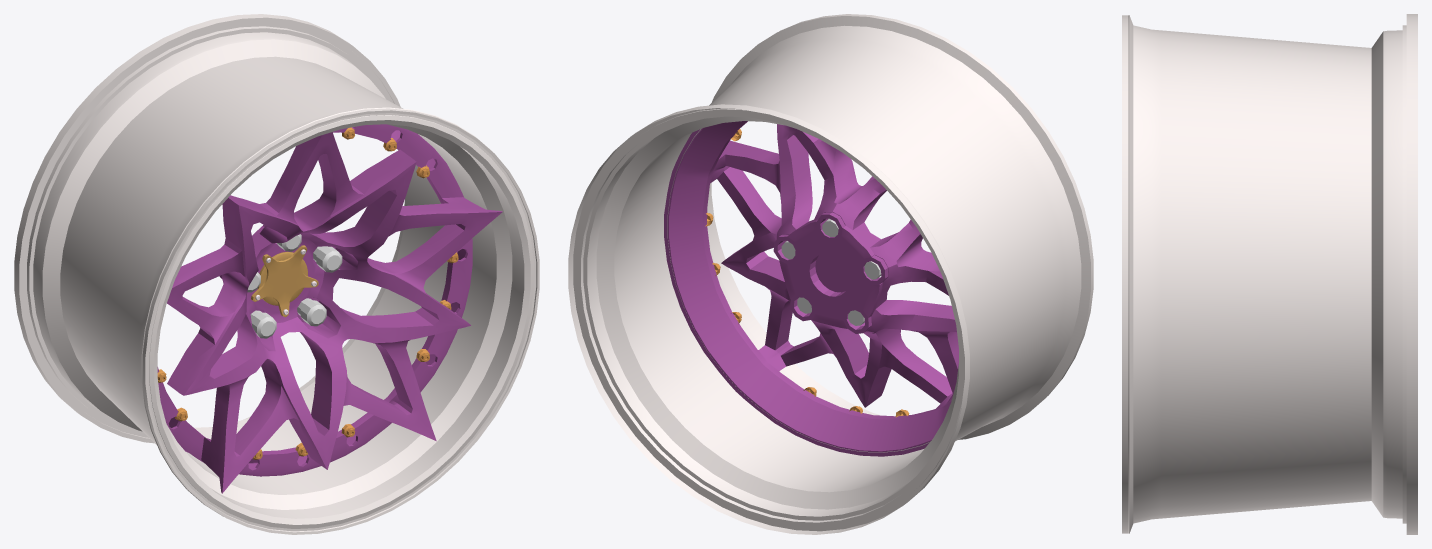
File: 0subd_FBX_Seven_K_Nika_S_Model.fbx
3 renders of one model, left to right at view 1: azimuth 30°, elevation 25°; view 2: azimuth 150°, elevation 25°; view 3: azimuth 270°, elevation 25°, orthographic. The views are drawn at different scales.
Visible parts, largest first — view 1: Rim, Centre_Cap, Lug_Nuts; view 2: Rim, Lug_Nuts; view 3: Rim.
Boxes of the visible parts, bbox=[...] form: Rim: bbox=[14, 14, 539, 534]; Centre_Cap: bbox=[251, 245, 318, 317]; Lug_Nuts: bbox=[247, 234, 342, 338]; Rim: bbox=[568, 14, 1093, 534]; Lug_Nuts: bbox=[781, 218, 881, 325]; Rim: bbox=[1122, 14, 1417, 534].
Bounding box in the file's own units: 102 × 102 × 57.7.
